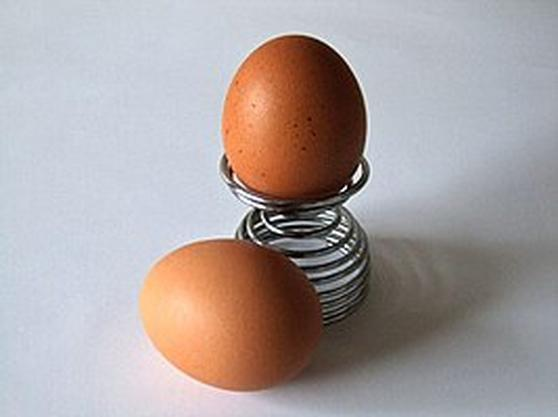egg: (136, 240, 322, 394), (221, 31, 366, 205)
